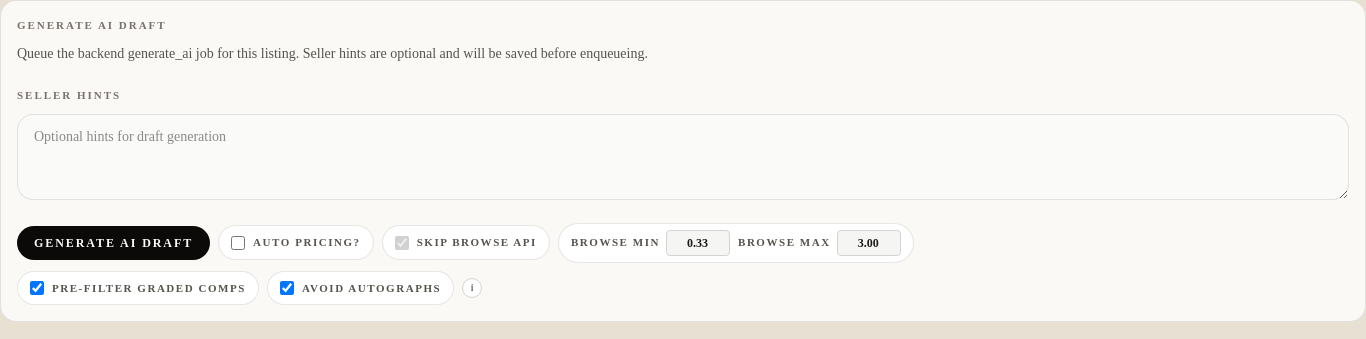
Scenario: ListingGenerateControls › disables Skip Browse API and shows it as skipped when Auto Pricing is off
Expected: the checkbox labelled "Skip Browse API" is checked, [395,236,409,250]
Expected: the checkbox labelled "Skip Browse API" is disabled, [395,236,409,250]
Click the checkbox labelled "Auto Pricing?": [238, 242] box [231,236,245,250]
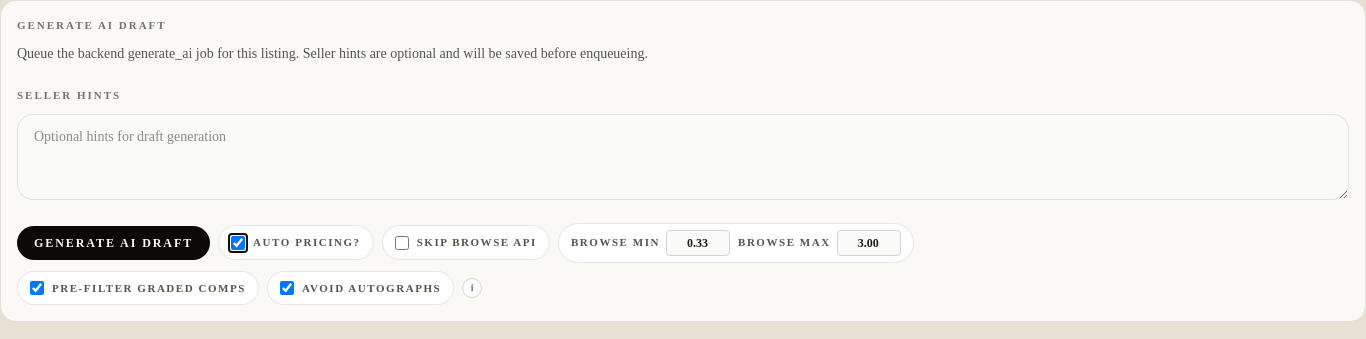
Now the checkbox labelled "Skip Browse API" is not checked, box [395,236,409,250]
Now the checkbox labelled "Skip Browse API" is enabled, box [395,236,409,250]
